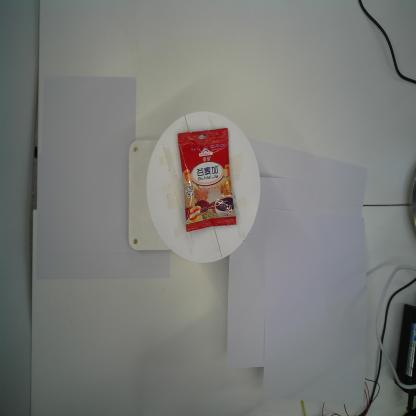Instant Drink: (177, 128, 237, 232)
